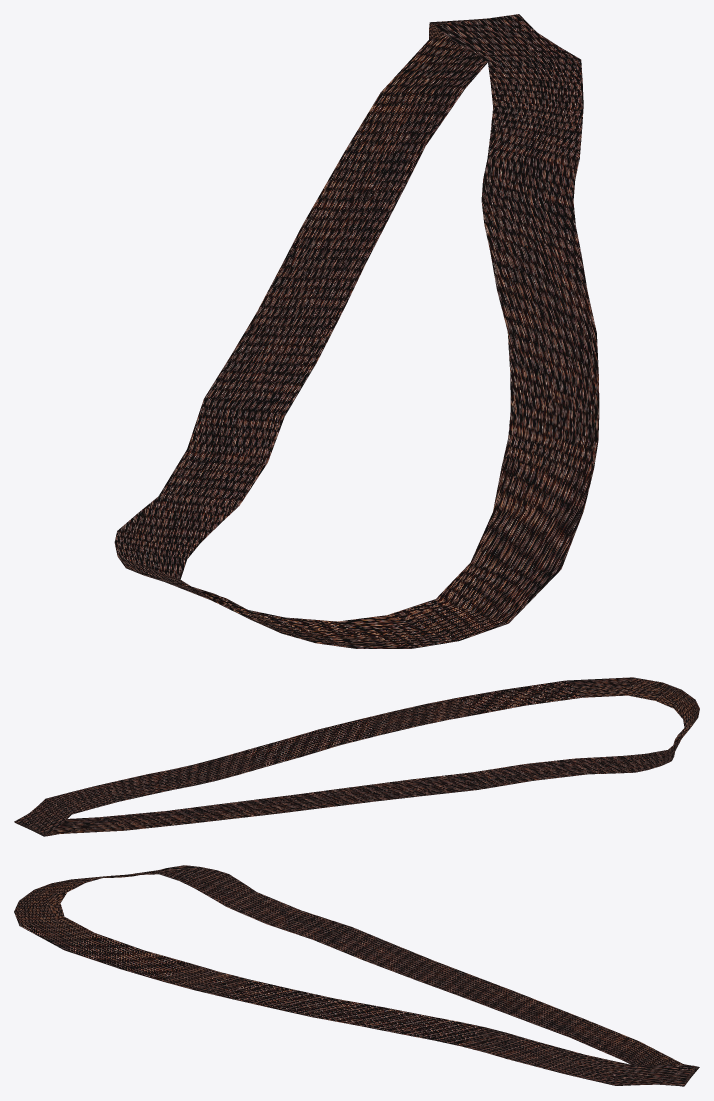
File: Sling_Flat.fbx
3 renders of one model, top to bottom at view 1: azimuth 30°, elevation 25°; view 2: azimuth 150°, elevation 25°; view 3: azimuth 270°, elevation 25°, orthographic. The views are drawn at different scales.
Visible parts, largest first — view 1: SLING; view 2: SLING; view 3: SLING.
Boxes of the visible parts, x1=… form: SLING: x1=114, y1=14, x2=599, y2=648; SLING: x1=14, y1=677, x2=699, y2=836; SLING: x1=14, y1=865, x2=699, y2=1086.
Bounding box in the file's own units: 0.5695 × 0.00817 × 0.7312.
